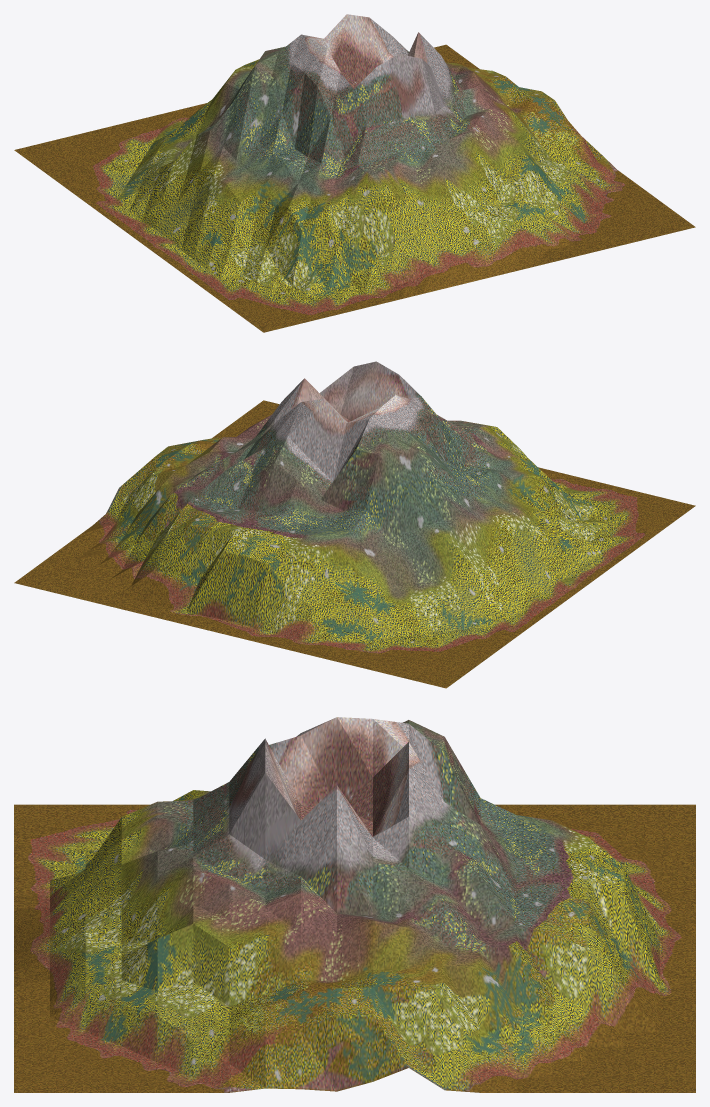
The model's file is MapMount.glb.
3 views of the same model, one above another, from view 1: azimuth 30°, elevation 25°; view 2: azimuth 150°, elevation 25°; view 3: azimuth 270°, elevation 25° (orthographic). The views are drawn at different scales.
Parts seen in each view (by area): view 1: MapMount; view 2: MapMount; view 3: MapMount.
Boxes of the visible parts, left/top/right/bottom form: MapMount: left=14, top=14, right=695, bottom=332; MapMount: left=14, top=361, right=695, bottom=688; MapMount: left=14, top=717, right=695, bottom=1092.
Bounding box in the file's own units: 178 × 61.82 × 178.
Materials: 1 (1 with a texture image).
